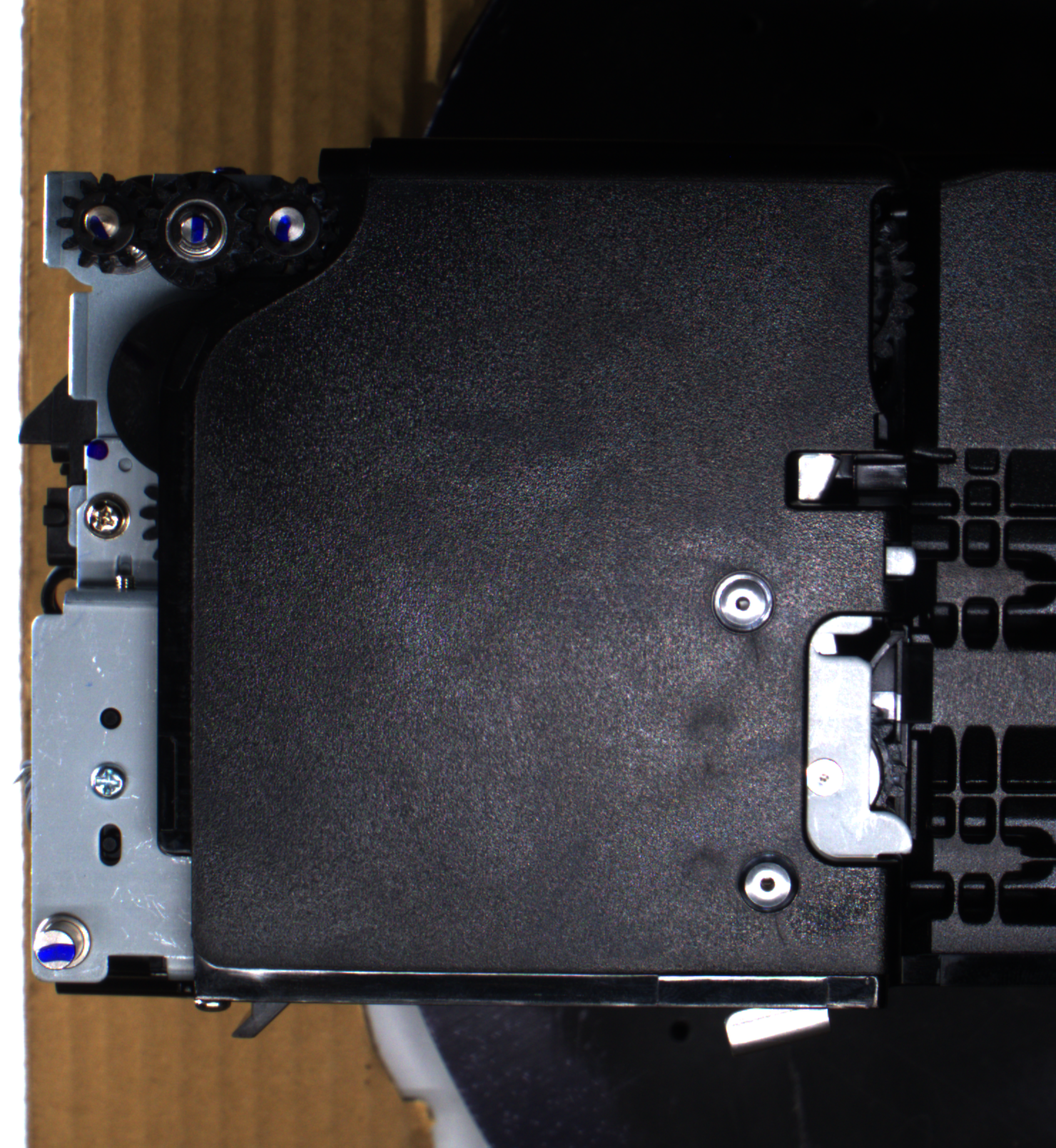centre_pin_presence: (719, 991, 835, 1054)
centre_plate_presence: (793, 605, 923, 873)
centre_screw_presence: (706, 564, 780, 640), (731, 843, 803, 916)
gear1_presence: (55, 171, 155, 277)
gear2_presence: (140, 170, 252, 290)
gear3_presence: (236, 174, 335, 277)
side_screw_presence: (80, 489, 133, 541), (86, 760, 129, 801)
slanting_pin_presence: (28, 909, 98, 977)
